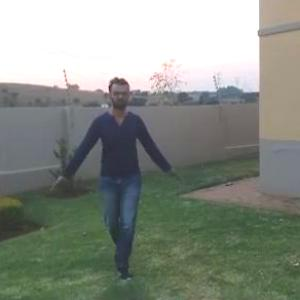land: (45, 66, 187, 286)
